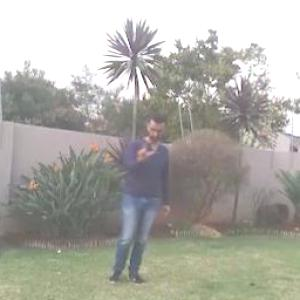land_hand: (132, 132, 160, 167)
